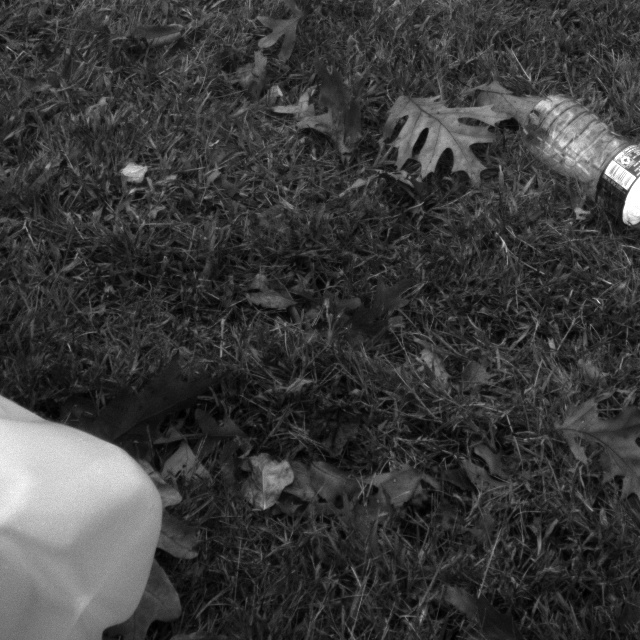bottle: (513, 60, 640, 245)
can: (0, 352, 248, 640)
